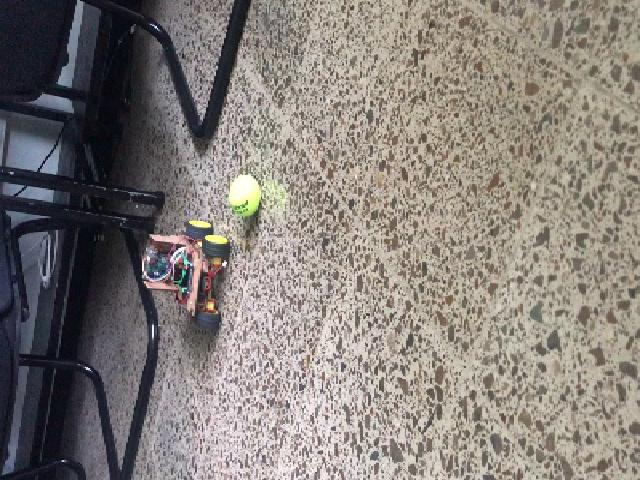Ball: (226, 174, 261, 218)
Robot: (141, 220, 229, 332)
